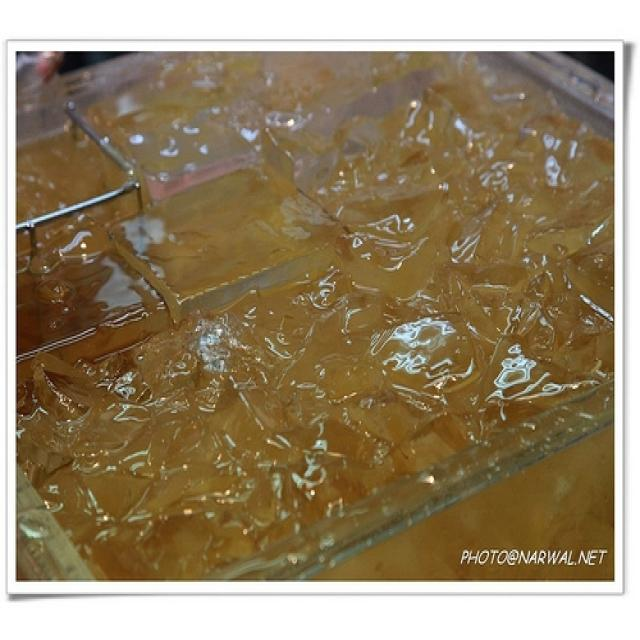蛋糕甜品: (40, 60, 588, 541)
